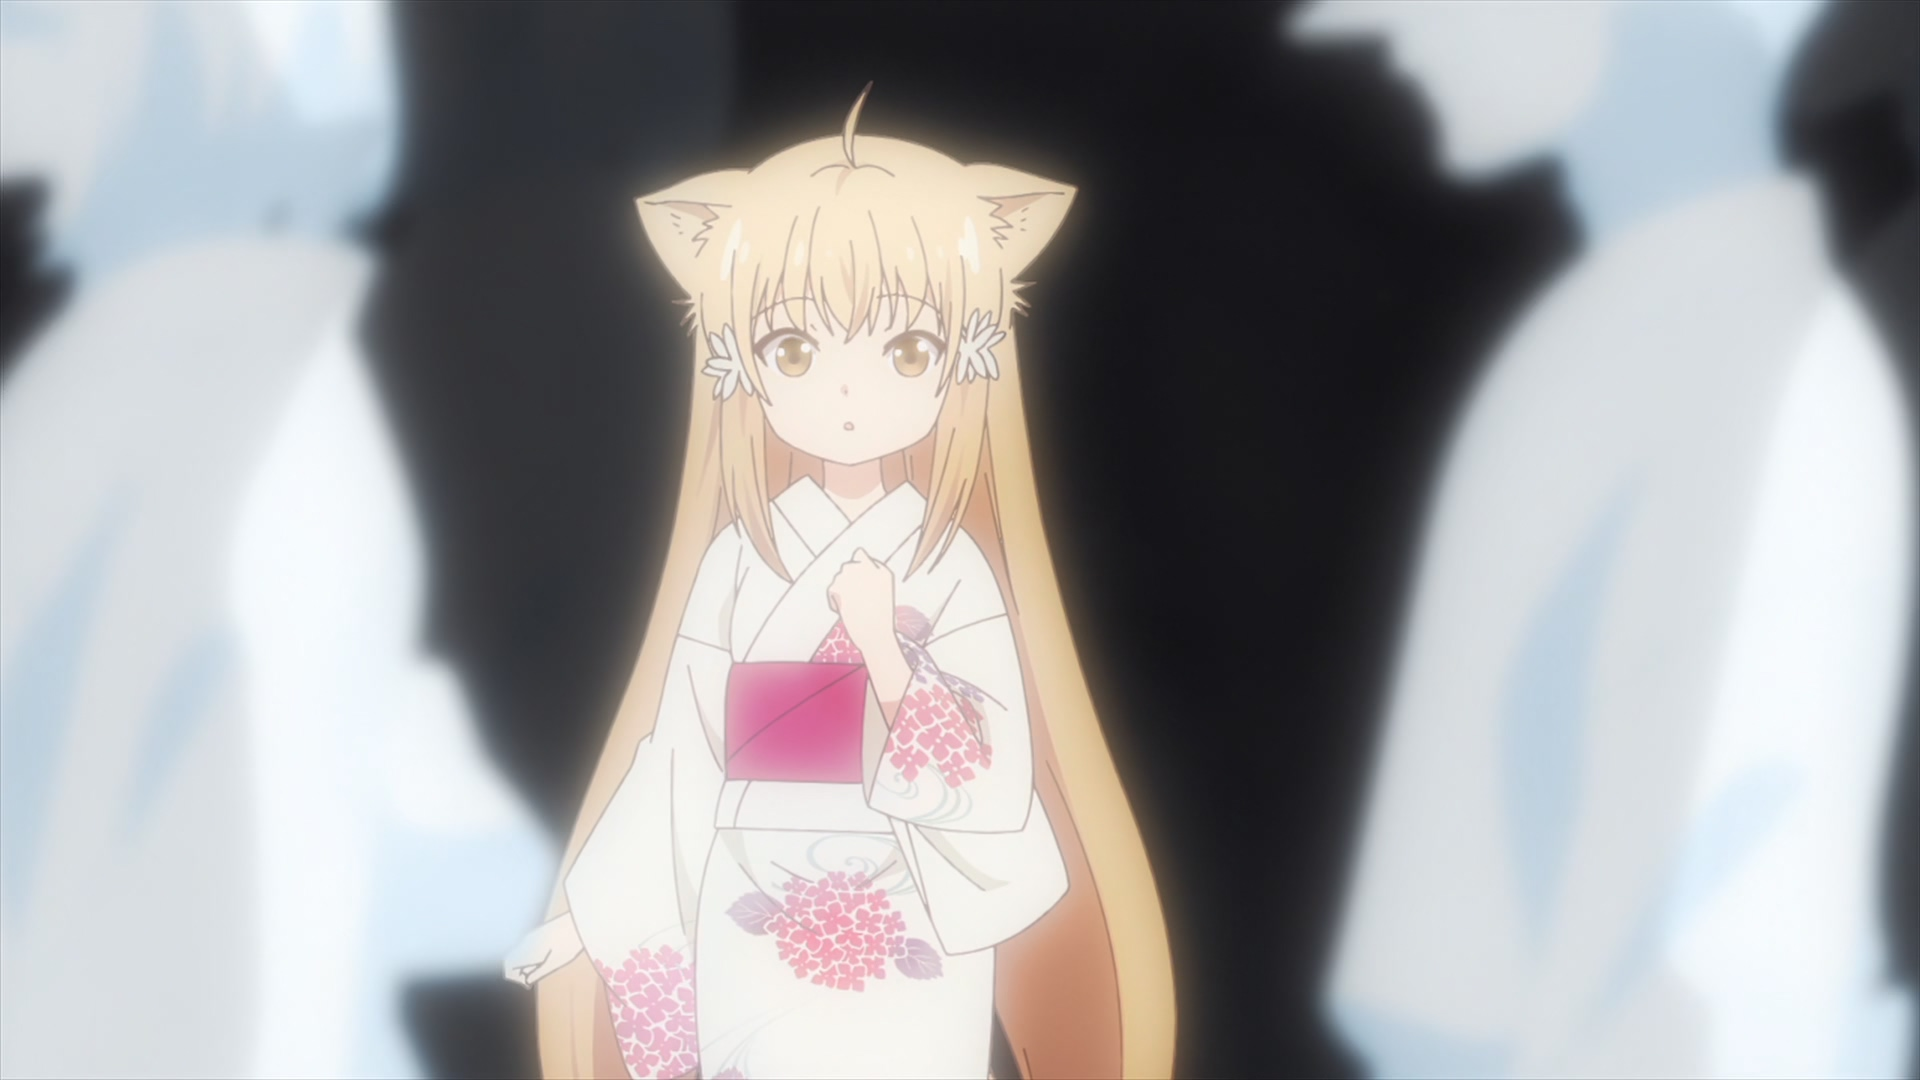柚: (501, 83, 1178, 1080)
